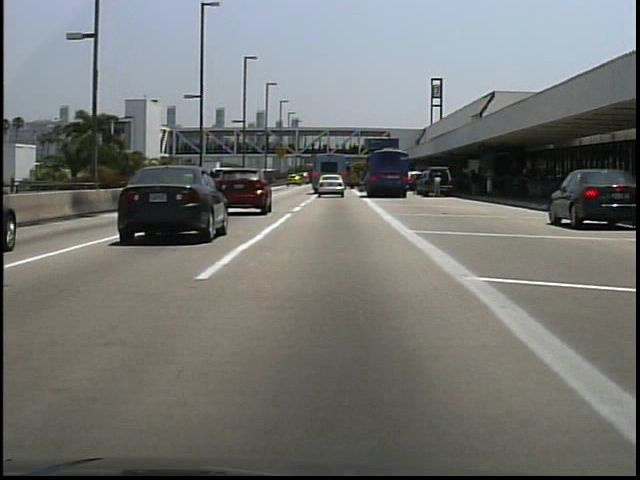person: (465, 166, 481, 202), (432, 173, 445, 201)
